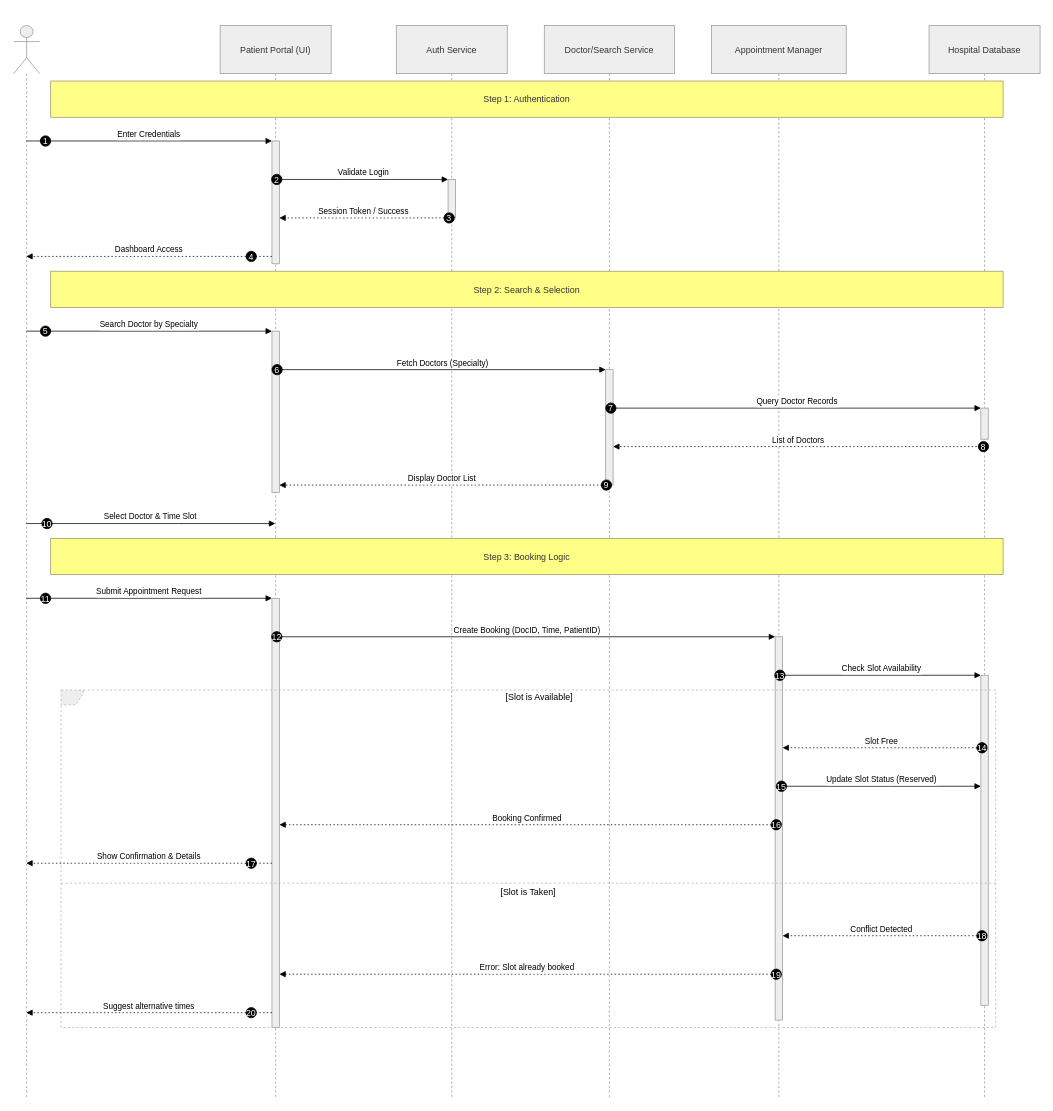
The diagram is 1053 pixels wide and 1111 high, and some of its shapes have lost their labels. Each missing label, with the box of its shape:
alt: (60, 689, 996, 1027)
Patient: (13, 25, 40, 1098)
